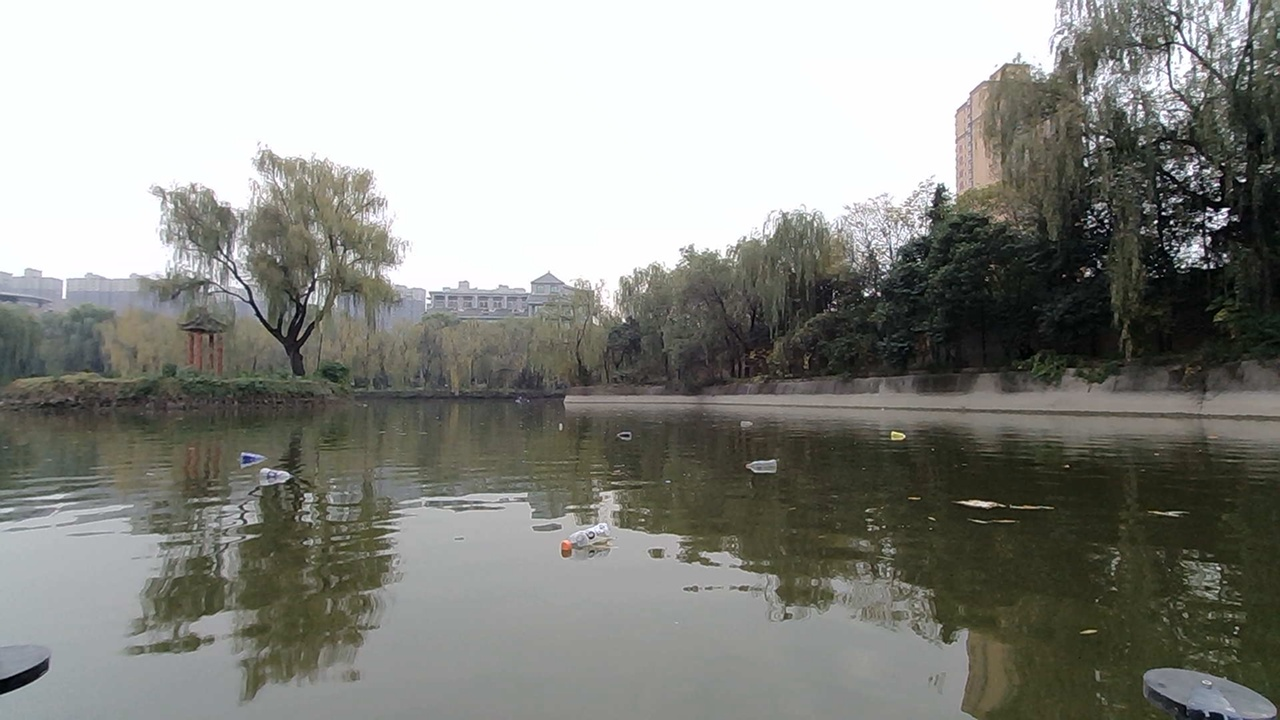bottle: (252, 451, 299, 493), (741, 441, 788, 483), (554, 527, 600, 562), (882, 417, 916, 454), (611, 418, 646, 451), (555, 420, 581, 444), (238, 447, 261, 473)
